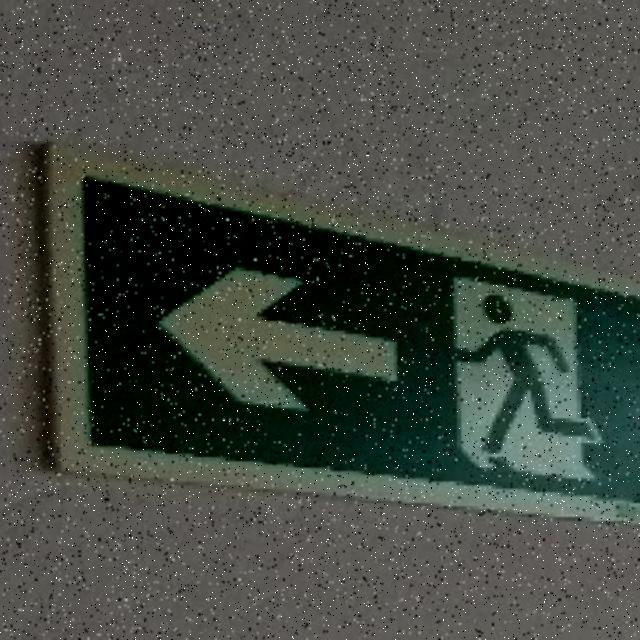emergency_exit: (45, 154, 639, 517)
